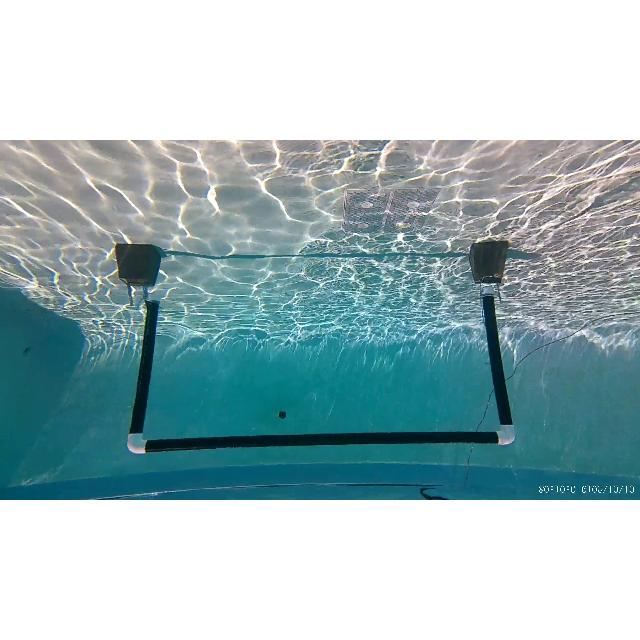prequal gate: (126, 287, 518, 455)
prequal gate leg l: (469, 285, 519, 449)
prequal gate leg r: (124, 282, 162, 456)
